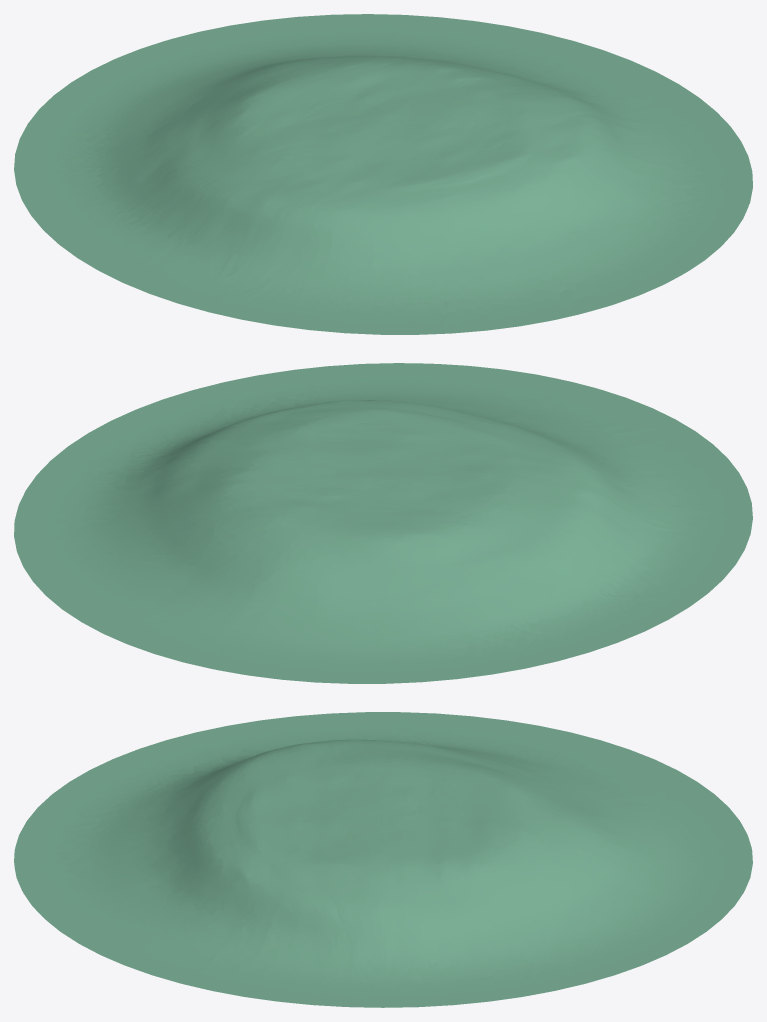
The model's file is island_circular_C_D.fbx.
The picture shows the model from 3 angles, top to bottom: view 1: azimuth 30°, elevation 25°; view 2: azimuth 150°, elevation 25°; view 3: azimuth 270°, elevation 25°; orthographic projection. The views are drawn at different scales.
Parts seen in each view (by area): view 1: island_circular_C_D; view 2: island_circular_C_D; view 3: island_circular_C_D.
Part boxes in pixels (left/top/right/bottom): island_circular_C_D: left=14, top=14, right=752, bottom=334; island_circular_C_D: left=14, top=363, right=752, bottom=683; island_circular_C_D: left=14, top=712, right=752, bottom=1007.
Size of the model in its own units: 27867 by 2109 by 29430.
